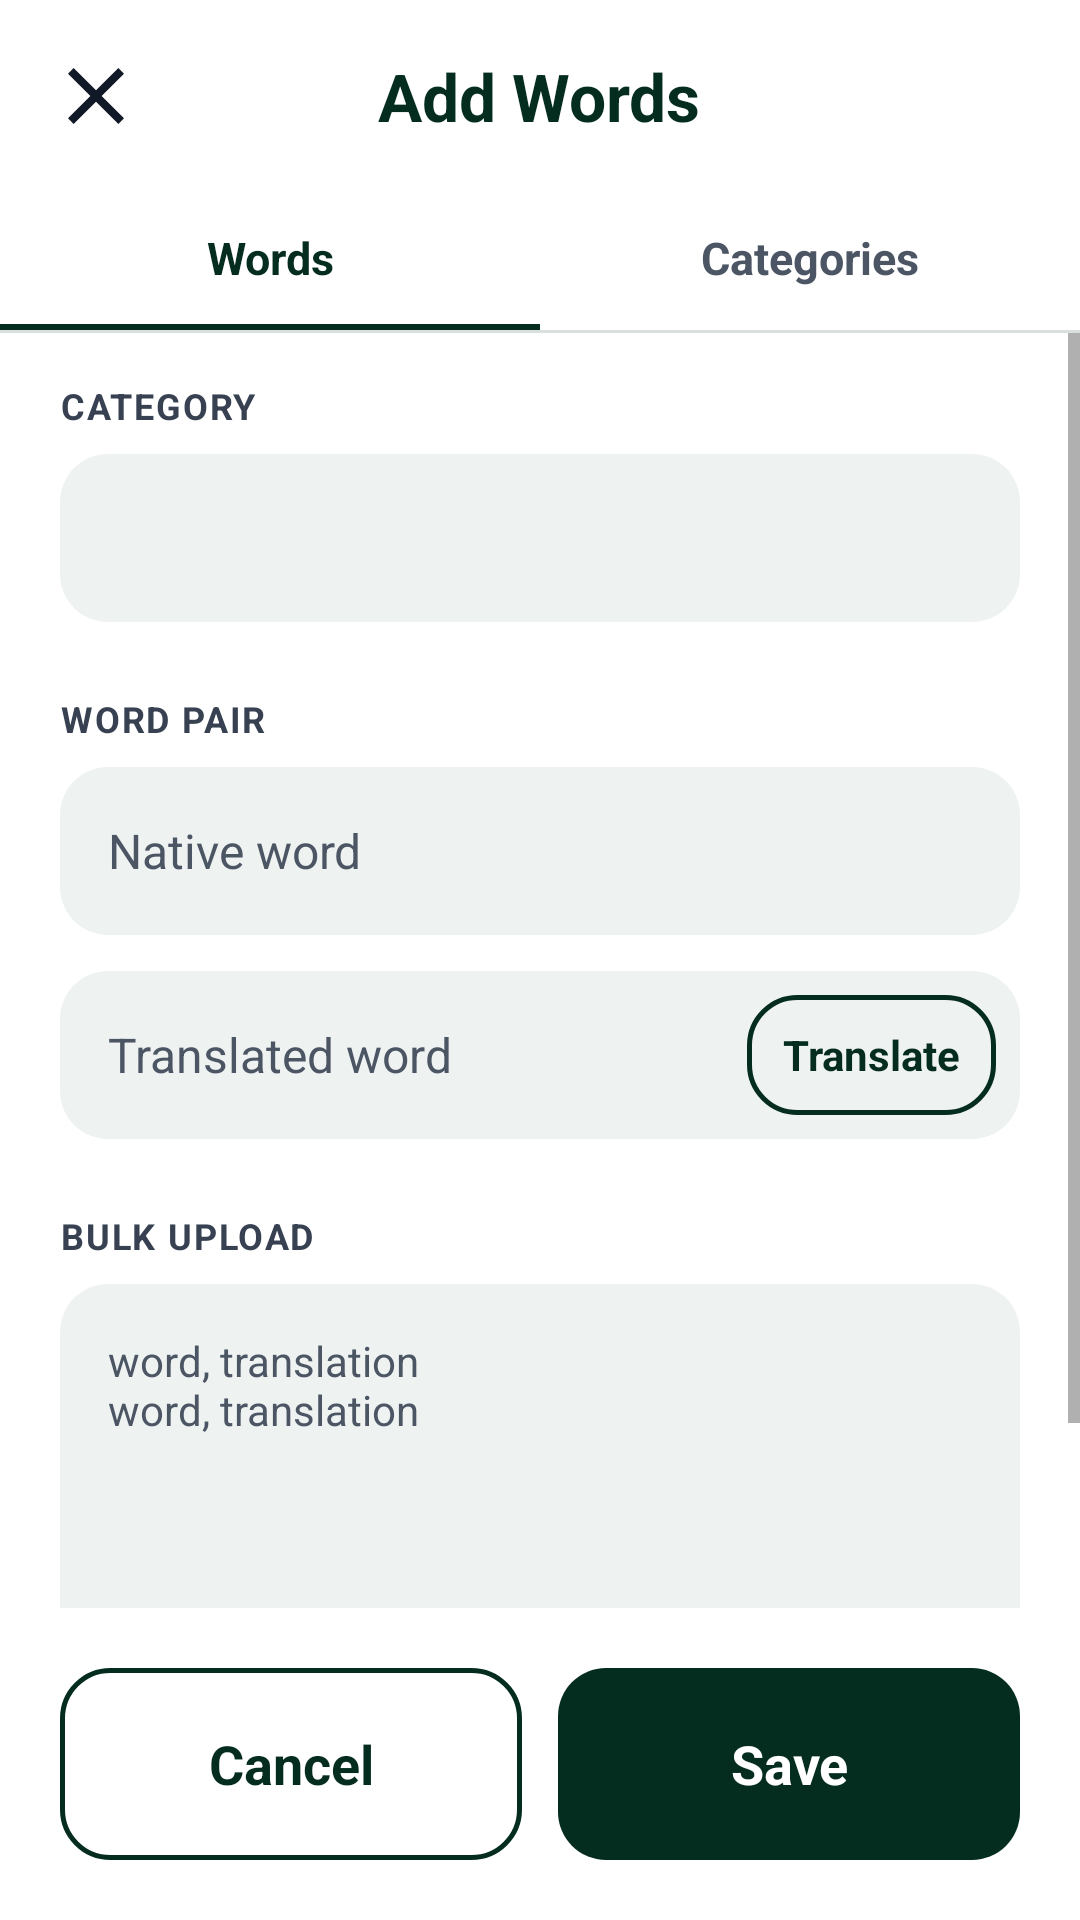

Screen size 1080px x 1920px. Icon name, then its box in pixels as [left=x1, top=y1, right=x2, bottom=y2]:
Close: [left=68, top=68, right=124, bottom=124]
